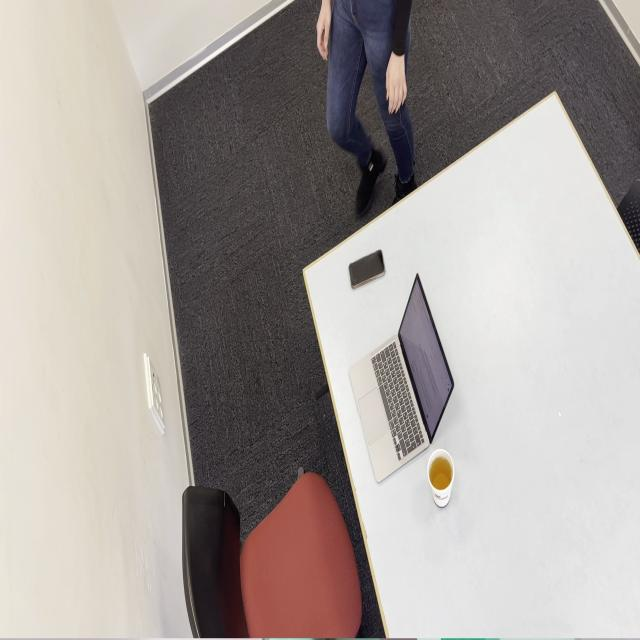bag: (348, 248, 385, 290)
ipad: (315, 0, 417, 216)
laptop: (348, 272, 454, 484)
